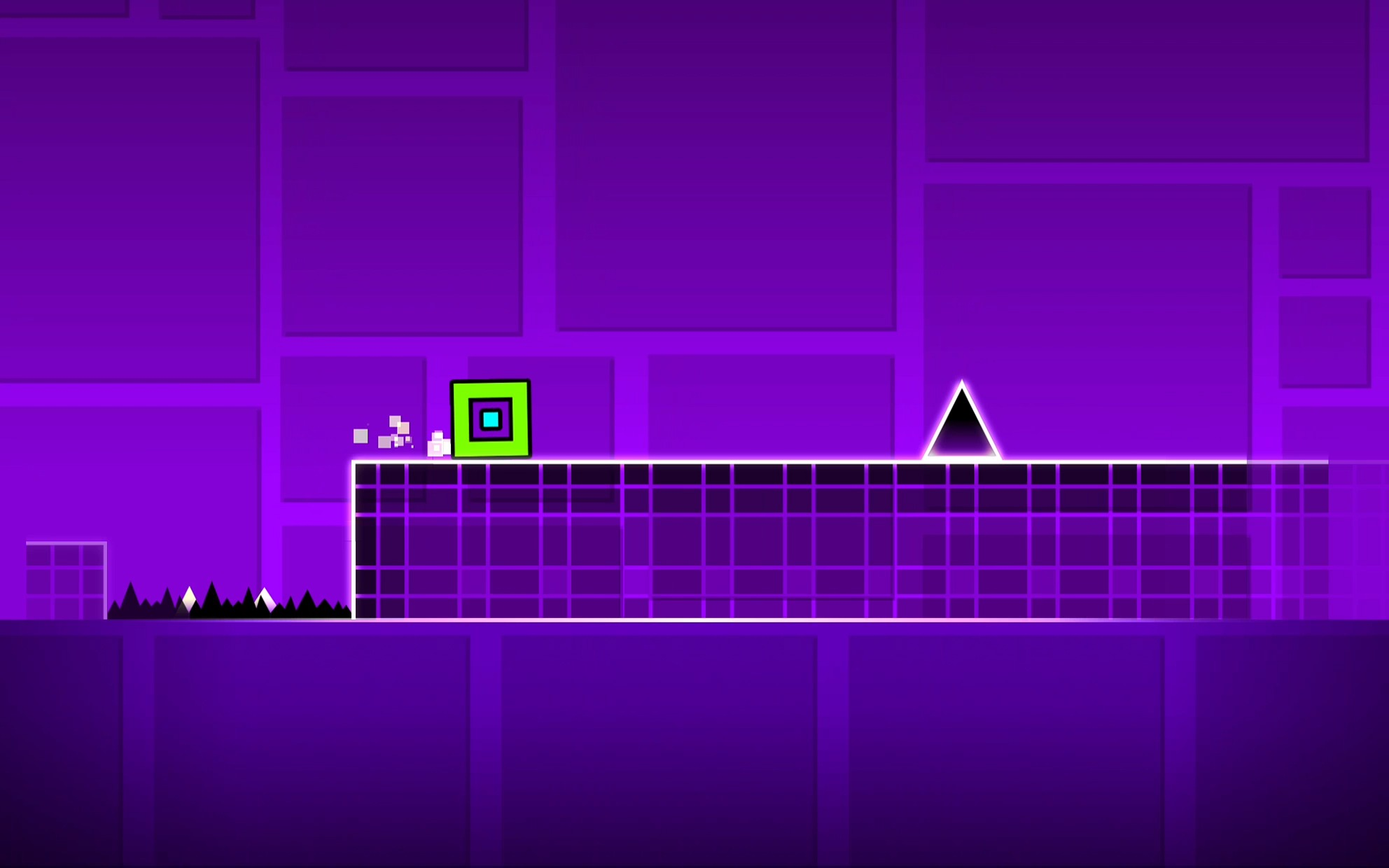Block2: (346, 456, 1379, 613), (9, 540, 109, 616)
Player: (447, 380, 531, 457)
Spike: (923, 382, 999, 458)
Spike3: (109, 581, 352, 622)
